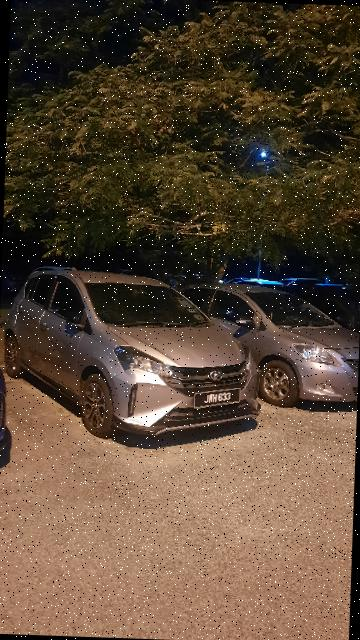License_Plate: (192, 387, 245, 411)
car: (6, 267, 270, 451)
